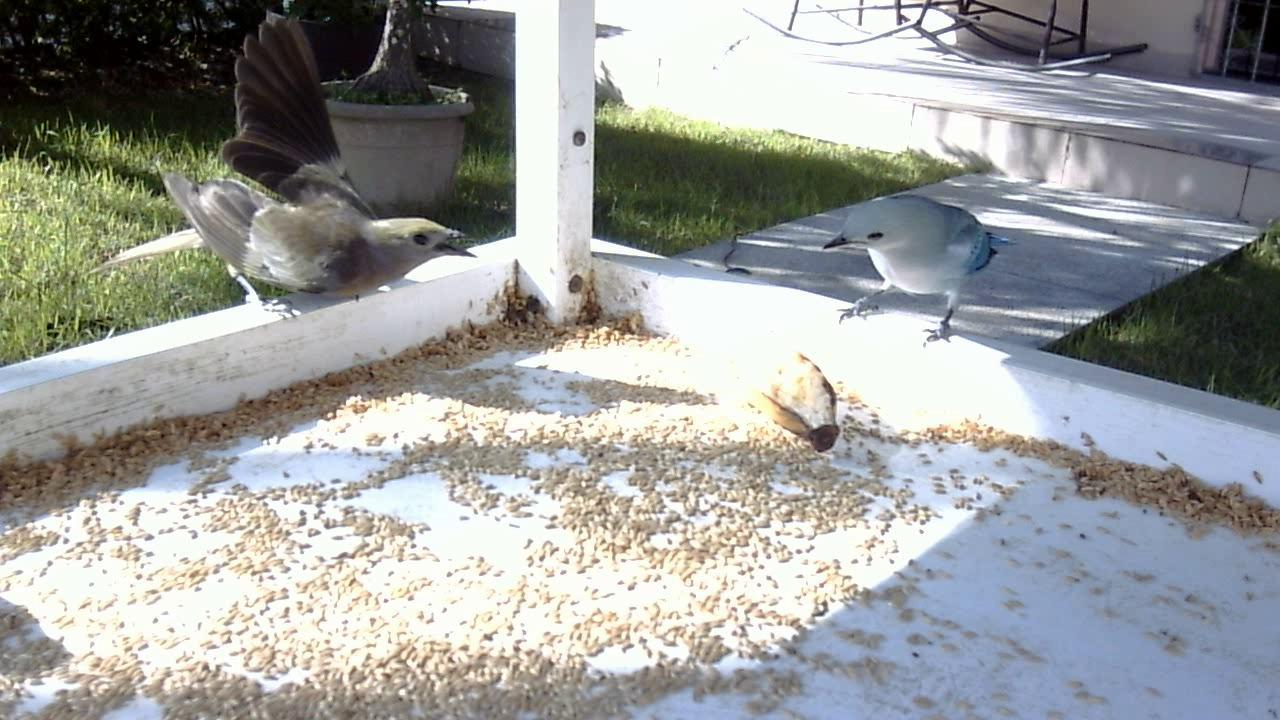sanhaco_da_amazonia: (799, 174, 1029, 356)
sanhaco_do_coqueiro: (94, 18, 480, 338)
